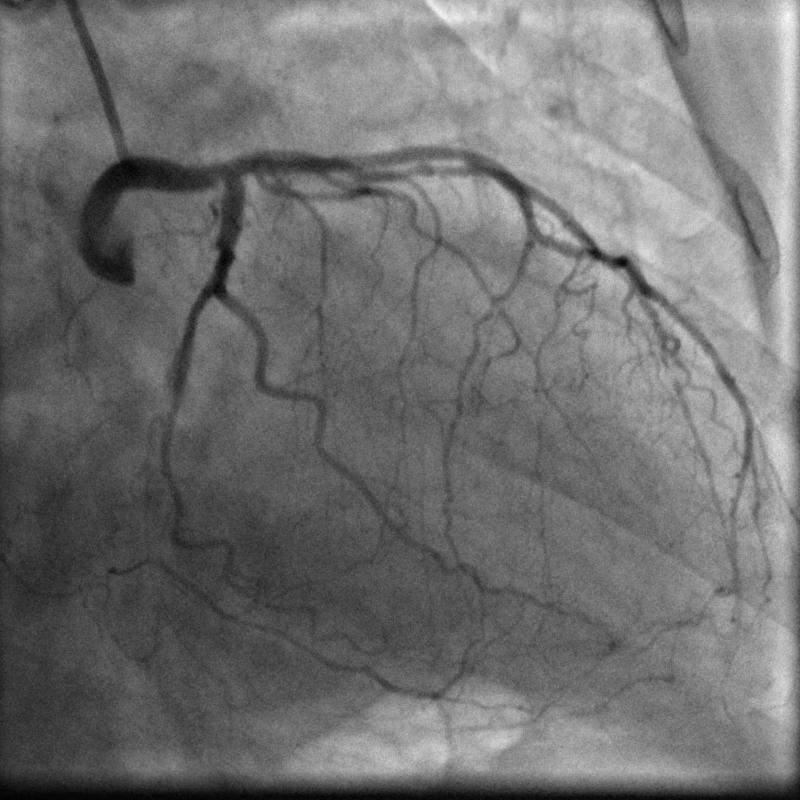Stenosis: (399, 157, 473, 186)
